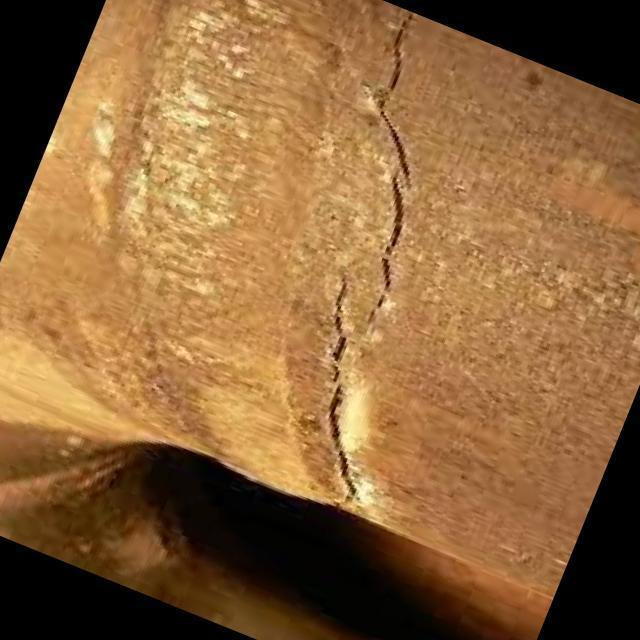defect: (361, 7, 424, 337), (320, 256, 359, 511)
